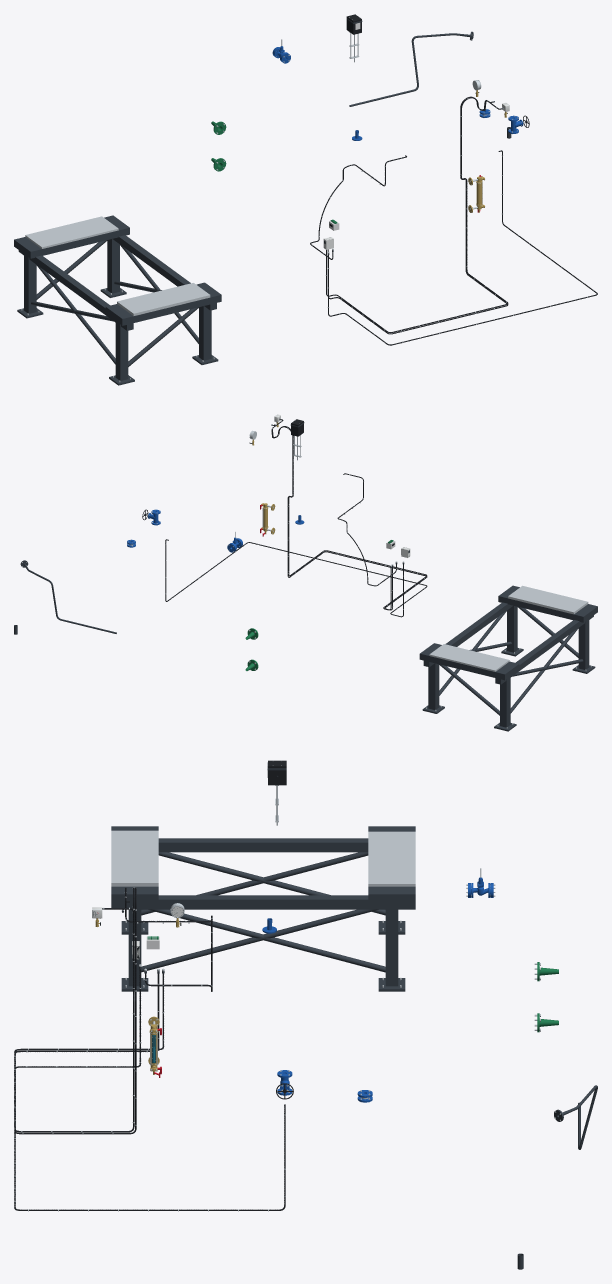
Rendered from s4000-4-XBNzQSbl.glb.
The picture shows the model from 3 angles, top to bottom: view 1: azimuth 30°, elevation 25°; view 2: azimuth 150°, elevation 25°; view 3: azimuth 270°, elevation 25°; orthographic projection. The views are drawn at different scales.
Visible parts, largest first — view 1: deaerator_support / dark, deaerator_support / steel, wiring_pump_1 / black, wiring_pressure_switch_2 / black, wiring_pressure_switch_1 / black, tds_without_fv / dark; view 2: deaerator_support / dark, deaerator_support / steel, wiring_pressure_switch_1 / black, wiring_pump_1 / black, wiring_pressure_switch_2 / black; view 3: deaerator_support / dark, deaerator_support / steel, wiring_pressure_switch_2 / black, wiring_pressure_switch_1 / black, wiring_pump_1 / black.
Part boxes in pixels (x1,y1,x2,y2): deaerator_support / dark: (14,215,221,385); deaerator_support / steel: (21,216,214,382); wiring_pump_1 / black: (328,150,597,345); wiring_pressure_switch_2 / black: (326,97,508,332); wiring_pressure_switch_1 / black: (327,96,508,334); tds_without_fv / dark: (349,31,473,106); deaerator_support / dark: (419,585,597,731); deaerator_support / steel: (426,585,591,728); wiring_pressure_switch_1 / black: (271,419,427,610); wiring_pump_1 / black: (165,539,427,617); wiring_pressure_switch_2 / black: (272,425,427,610); deaerator_support / dark: (111,826,415,991); deaerator_support / steel: (111,830,415,987); wiring_pressure_switch_2 / black: (14,887,164,1132); wiring_pressure_switch_1 / black: (14,887,159,1134); wiring_pump_1 / black: (14,969,285,1210).
Bounding box in the file's own units: 8.08 × 3.71 × 5.45.
